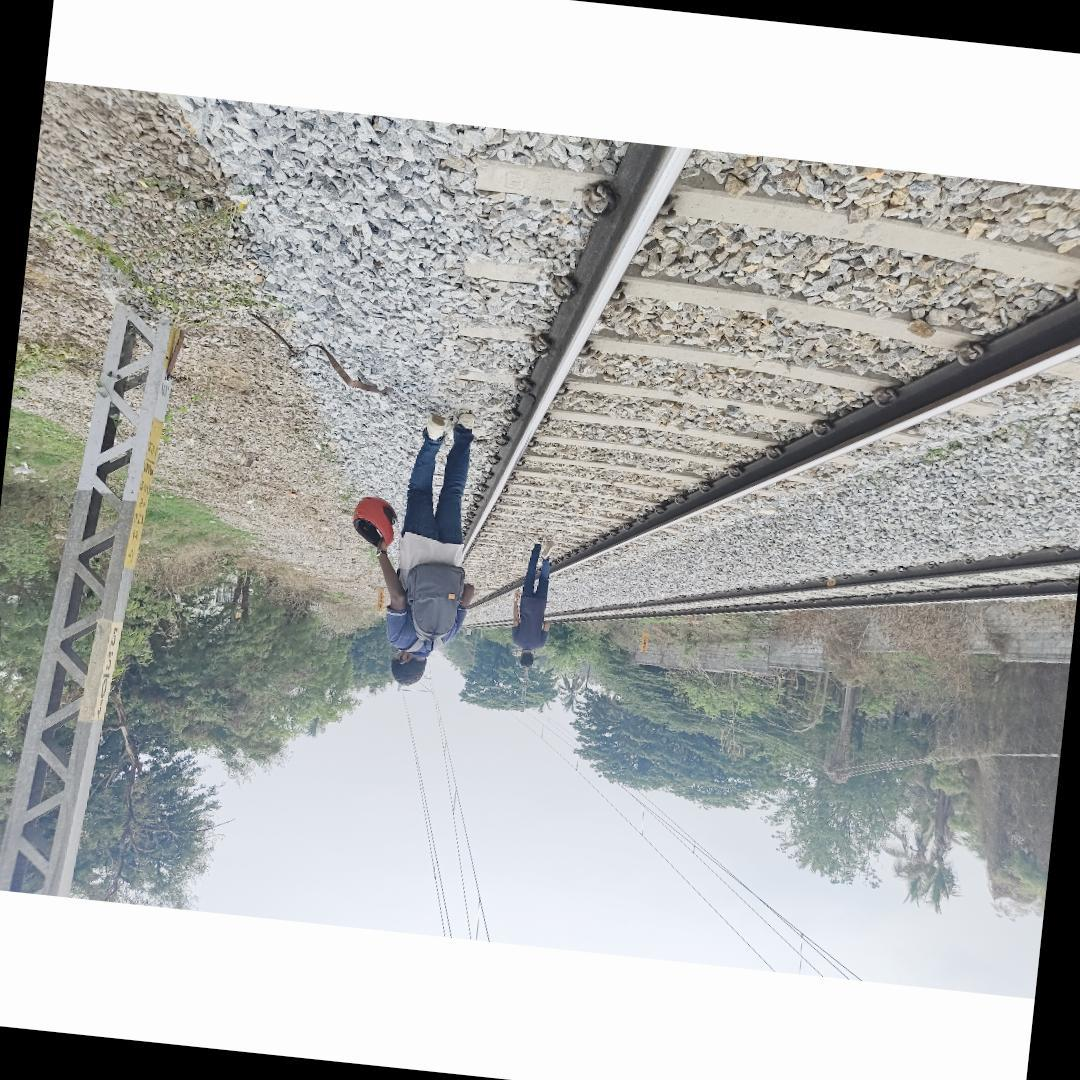standing: (360, 406, 494, 694), (504, 538, 560, 671)
track: (381, 145, 1080, 642)
